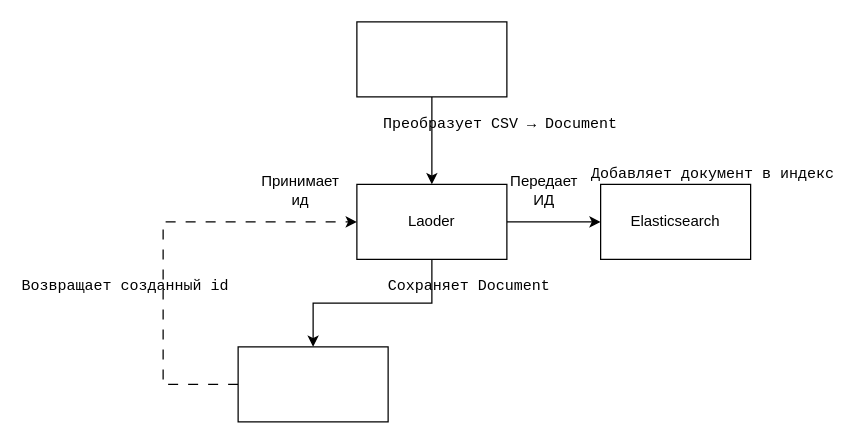
Some shapes in this 855 by 444 pixel diagram are drawn without their labels. The centre of each missing label's shape, as x and y in pixels:
CSV: the point at 431,59
Postgres: the point at 312,384
